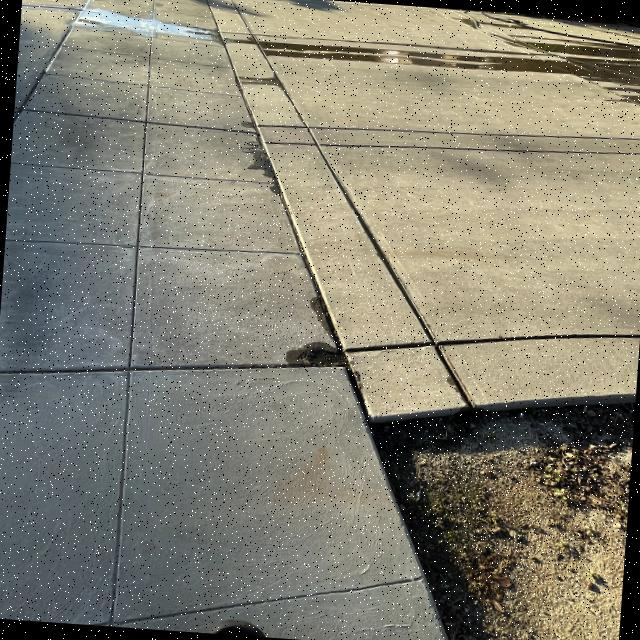walkway: (1, 376, 366, 640), (21, 73, 242, 384), (83, 0, 211, 190)
walkway-edge: (337, 400, 515, 640), (249, 166, 404, 426)
